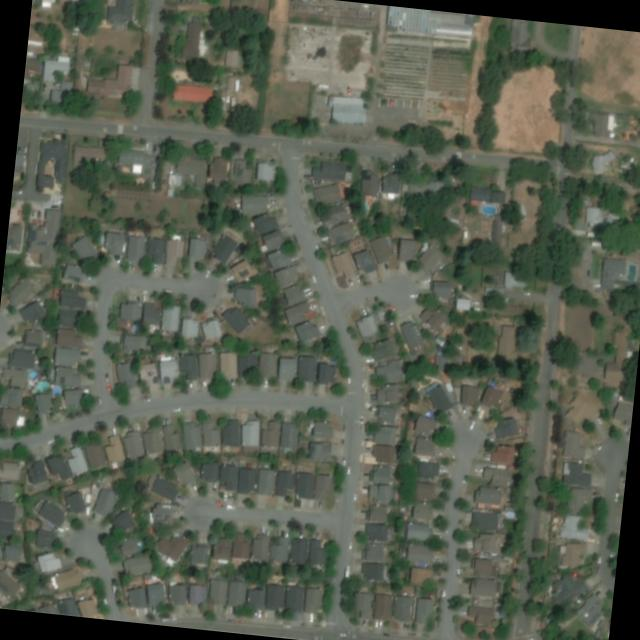old_road: (221, 136, 417, 584), (172, 416, 483, 640), (275, 140, 414, 579), (25, 273, 318, 449), (18, 0, 229, 197), (93, 268, 222, 417), (70, 527, 127, 619), (72, 528, 117, 617), (529, 347, 551, 472), (598, 441, 625, 506), (454, 423, 479, 484), (541, 285, 559, 343)
